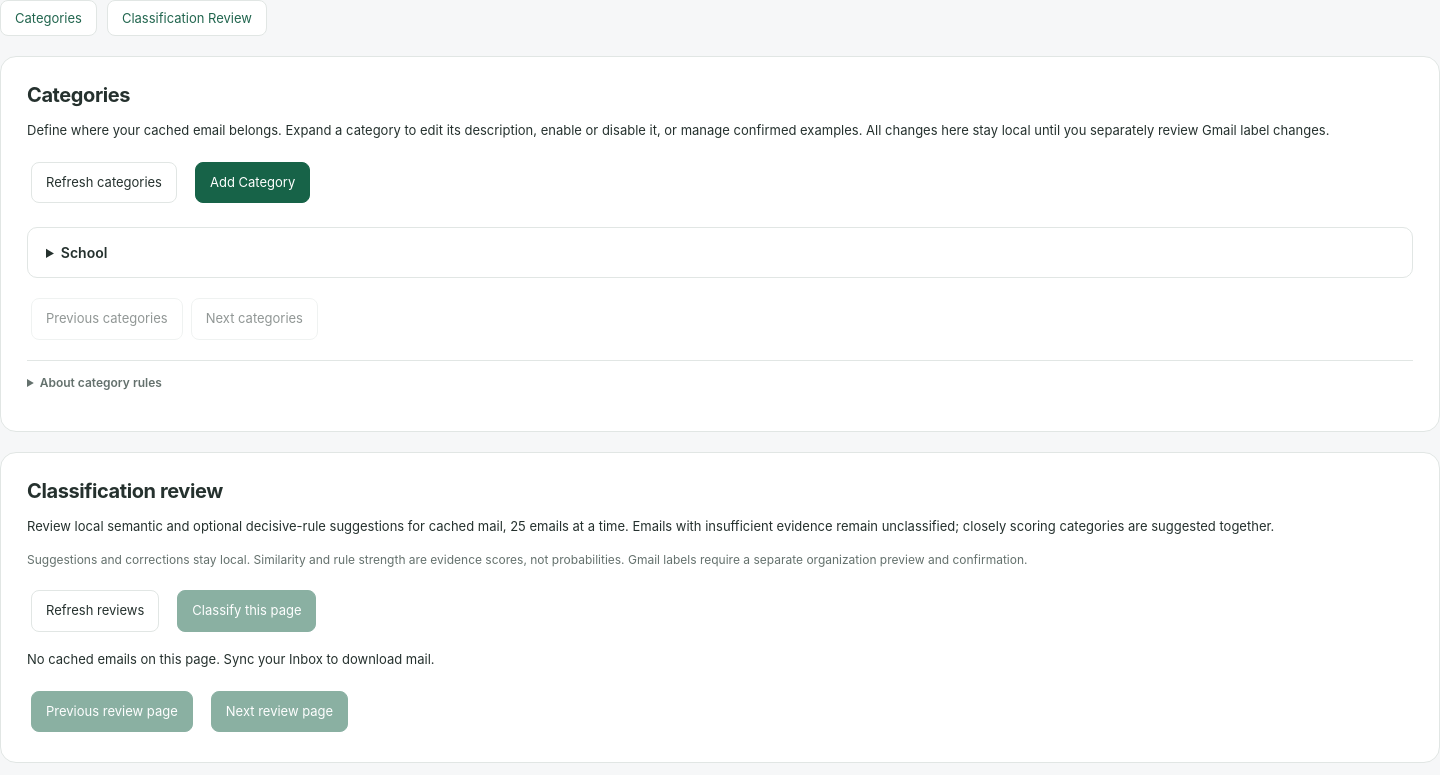
Scenario: does not offer an update route when category storage rejects a change
Click the heading "School".
click(84, 253)  # box [61,244,107,261]
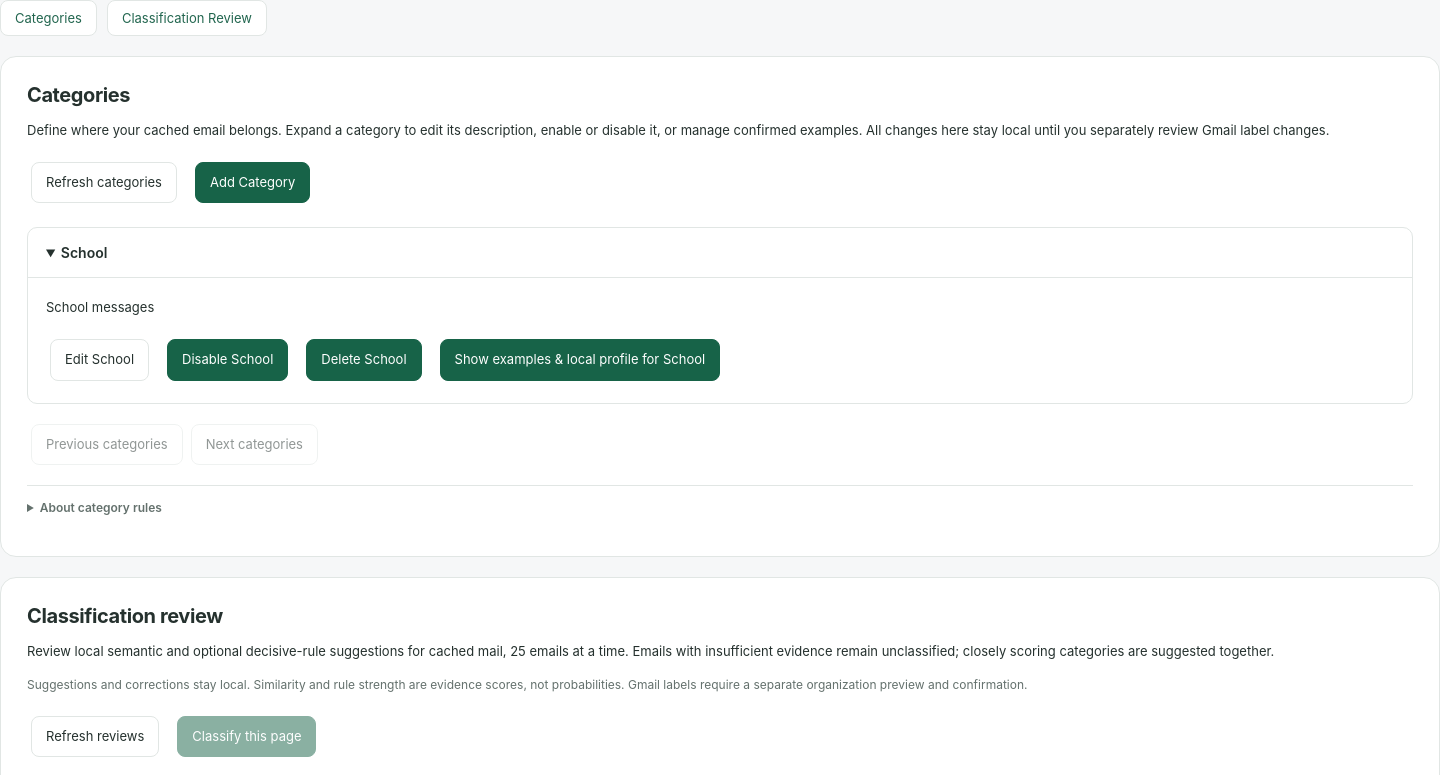
Click the button "Disable School".
click(228, 360)  # box [167,339,288,380]
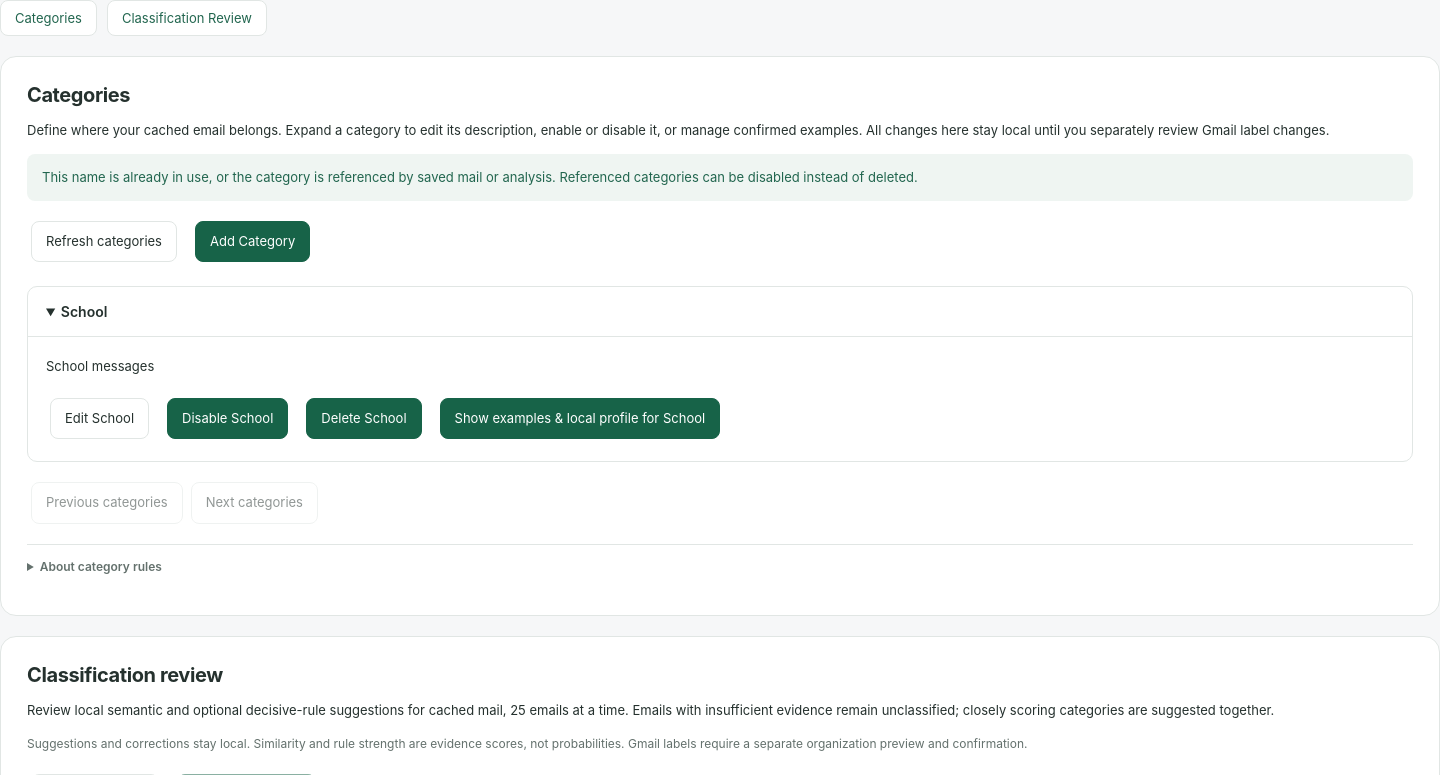
Result: the text "This name is already in use" is shown at [42,169,918,185]
